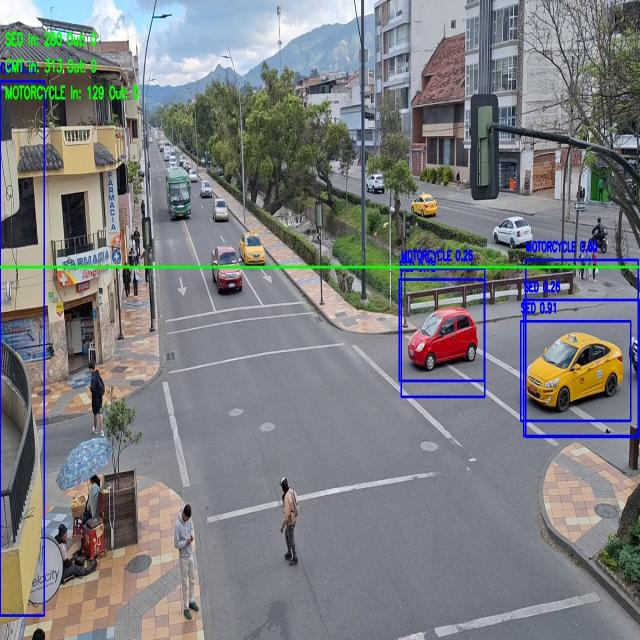BUS: (168, 174, 191, 219)
CMT: (212, 249, 240, 293)
SED: (528, 336, 620, 406), (408, 311, 476, 369), (493, 219, 530, 246), (242, 233, 264, 265)
